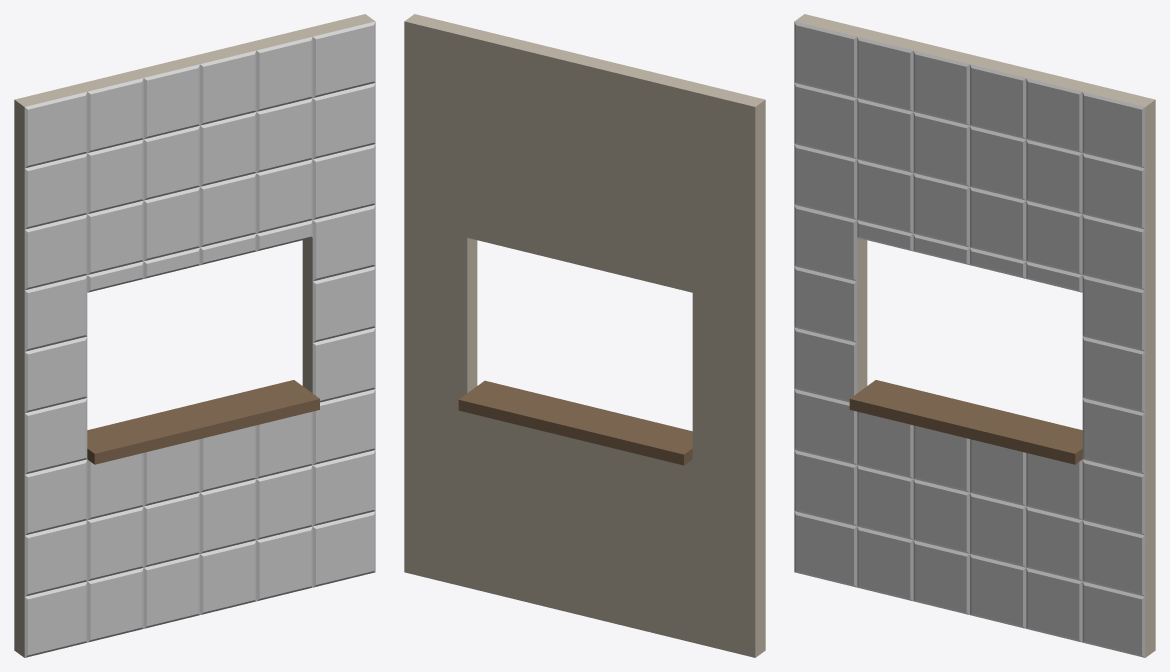
The model's file is Mesh_WallCeramic_A2.fbx.
3 views of the same model, side by side, from view 1: azimuth 30°, elevation 25°; view 2: azimuth 150°, elevation 25°; view 3: azimuth 330°, elevation 25° (orthographic).
Visible parts, largest first — view 1: Mesh_WallCeramic_A2; view 2: Mesh_WallCeramic_A2; view 3: Mesh_WallCeramic_A2.
Boxes of the visible parts, bbox=[...] form: Mesh_WallCeramic_A2: bbox=[14, 14, 375, 657]; Mesh_WallCeramic_A2: bbox=[404, 14, 765, 657]; Mesh_WallCeramic_A2: bbox=[794, 14, 1155, 657].
Bounding box in the file's own units: 2 × 3 × 0.2574.
